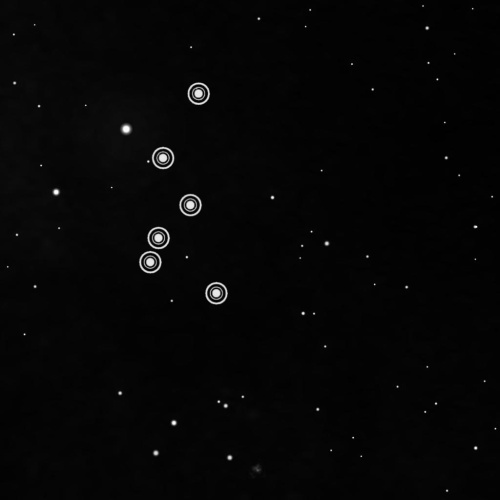cassiopeia: (134, 78, 232, 308)
